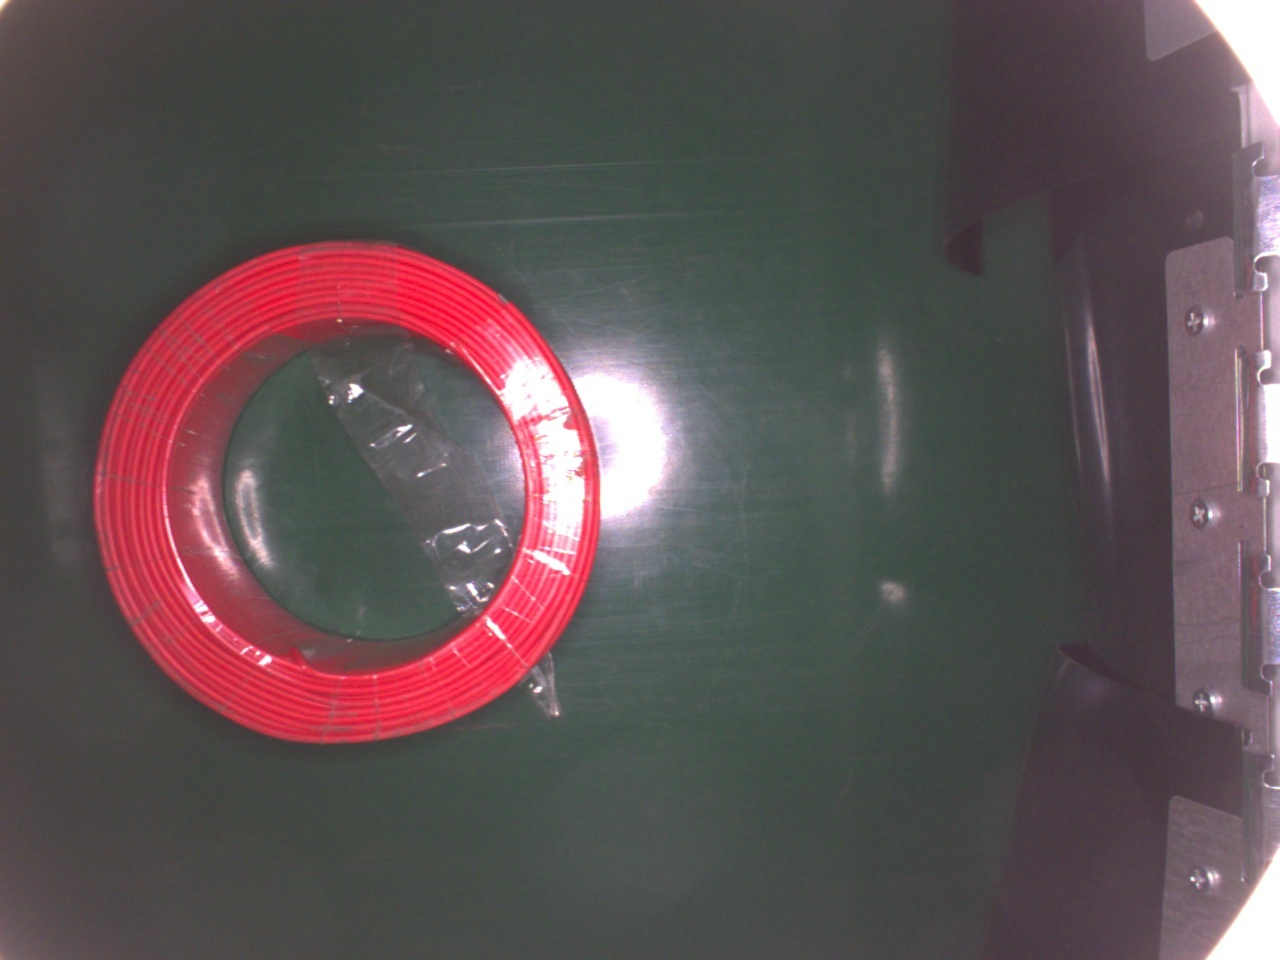red: (91, 240, 603, 741)
